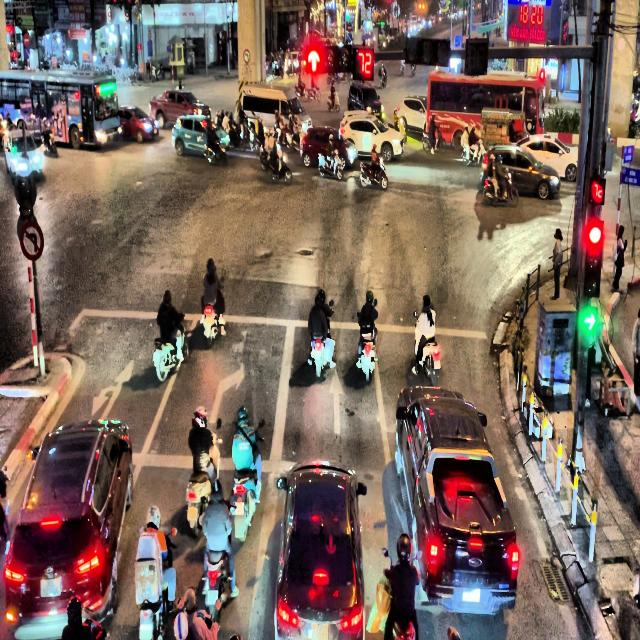BUS: (424, 68, 546, 151), (0, 69, 122, 150)
CAR: (3, 417, 133, 639), (274, 460, 367, 640), (480, 144, 561, 200), (339, 110, 406, 162), (516, 134, 578, 181), (171, 114, 229, 164), (300, 126, 358, 170), (149, 90, 211, 128), (4, 130, 44, 182), (117, 105, 159, 143), (347, 82, 385, 120), (393, 96, 427, 138)
MOTORBIKE: (196, 488, 237, 621), (134, 528, 177, 640), (229, 419, 264, 542), (186, 432, 222, 536), (153, 318, 189, 382), (308, 299, 336, 377), (412, 310, 440, 386), (356, 312, 378, 382), (200, 286, 225, 347), (482, 169, 518, 208), (260, 145, 292, 185), (359, 155, 388, 190), (318, 151, 344, 180), (274, 124, 300, 152), (204, 136, 228, 166), (422, 125, 446, 154), (461, 139, 484, 166), (40, 128, 57, 156), (327, 89, 340, 112), (378, 70, 386, 88)
